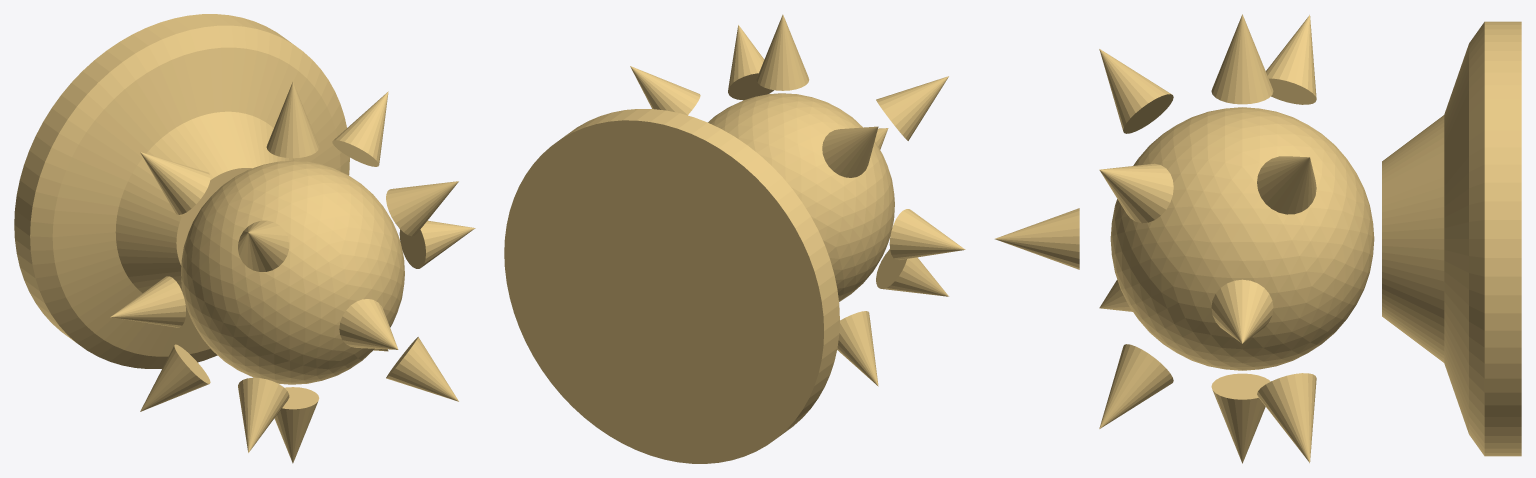
File: shataghni_surya.glb
3 views of the same model, side by side, from view 1: azimuth 30°, elevation 25°; view 2: azimuth 150°, elevation 25°; view 3: azimuth 270°, elevation 25° (orthographic). The views are drawn at different scales.
Visible parts, largest first — view 1: geometry_0; view 2: geometry_0; view 3: geometry_0.
Boxes of the visible parts, left/top/right/bottom form: geometry_0: left=14, top=14, right=475, bottom=463; geometry_0: left=504, top=14, right=965, bottom=463; geometry_0: left=995, top=14, right=1521, bottom=463.
Bounding box in the file's own units: 0.032 × 0.032 × 0.034.
